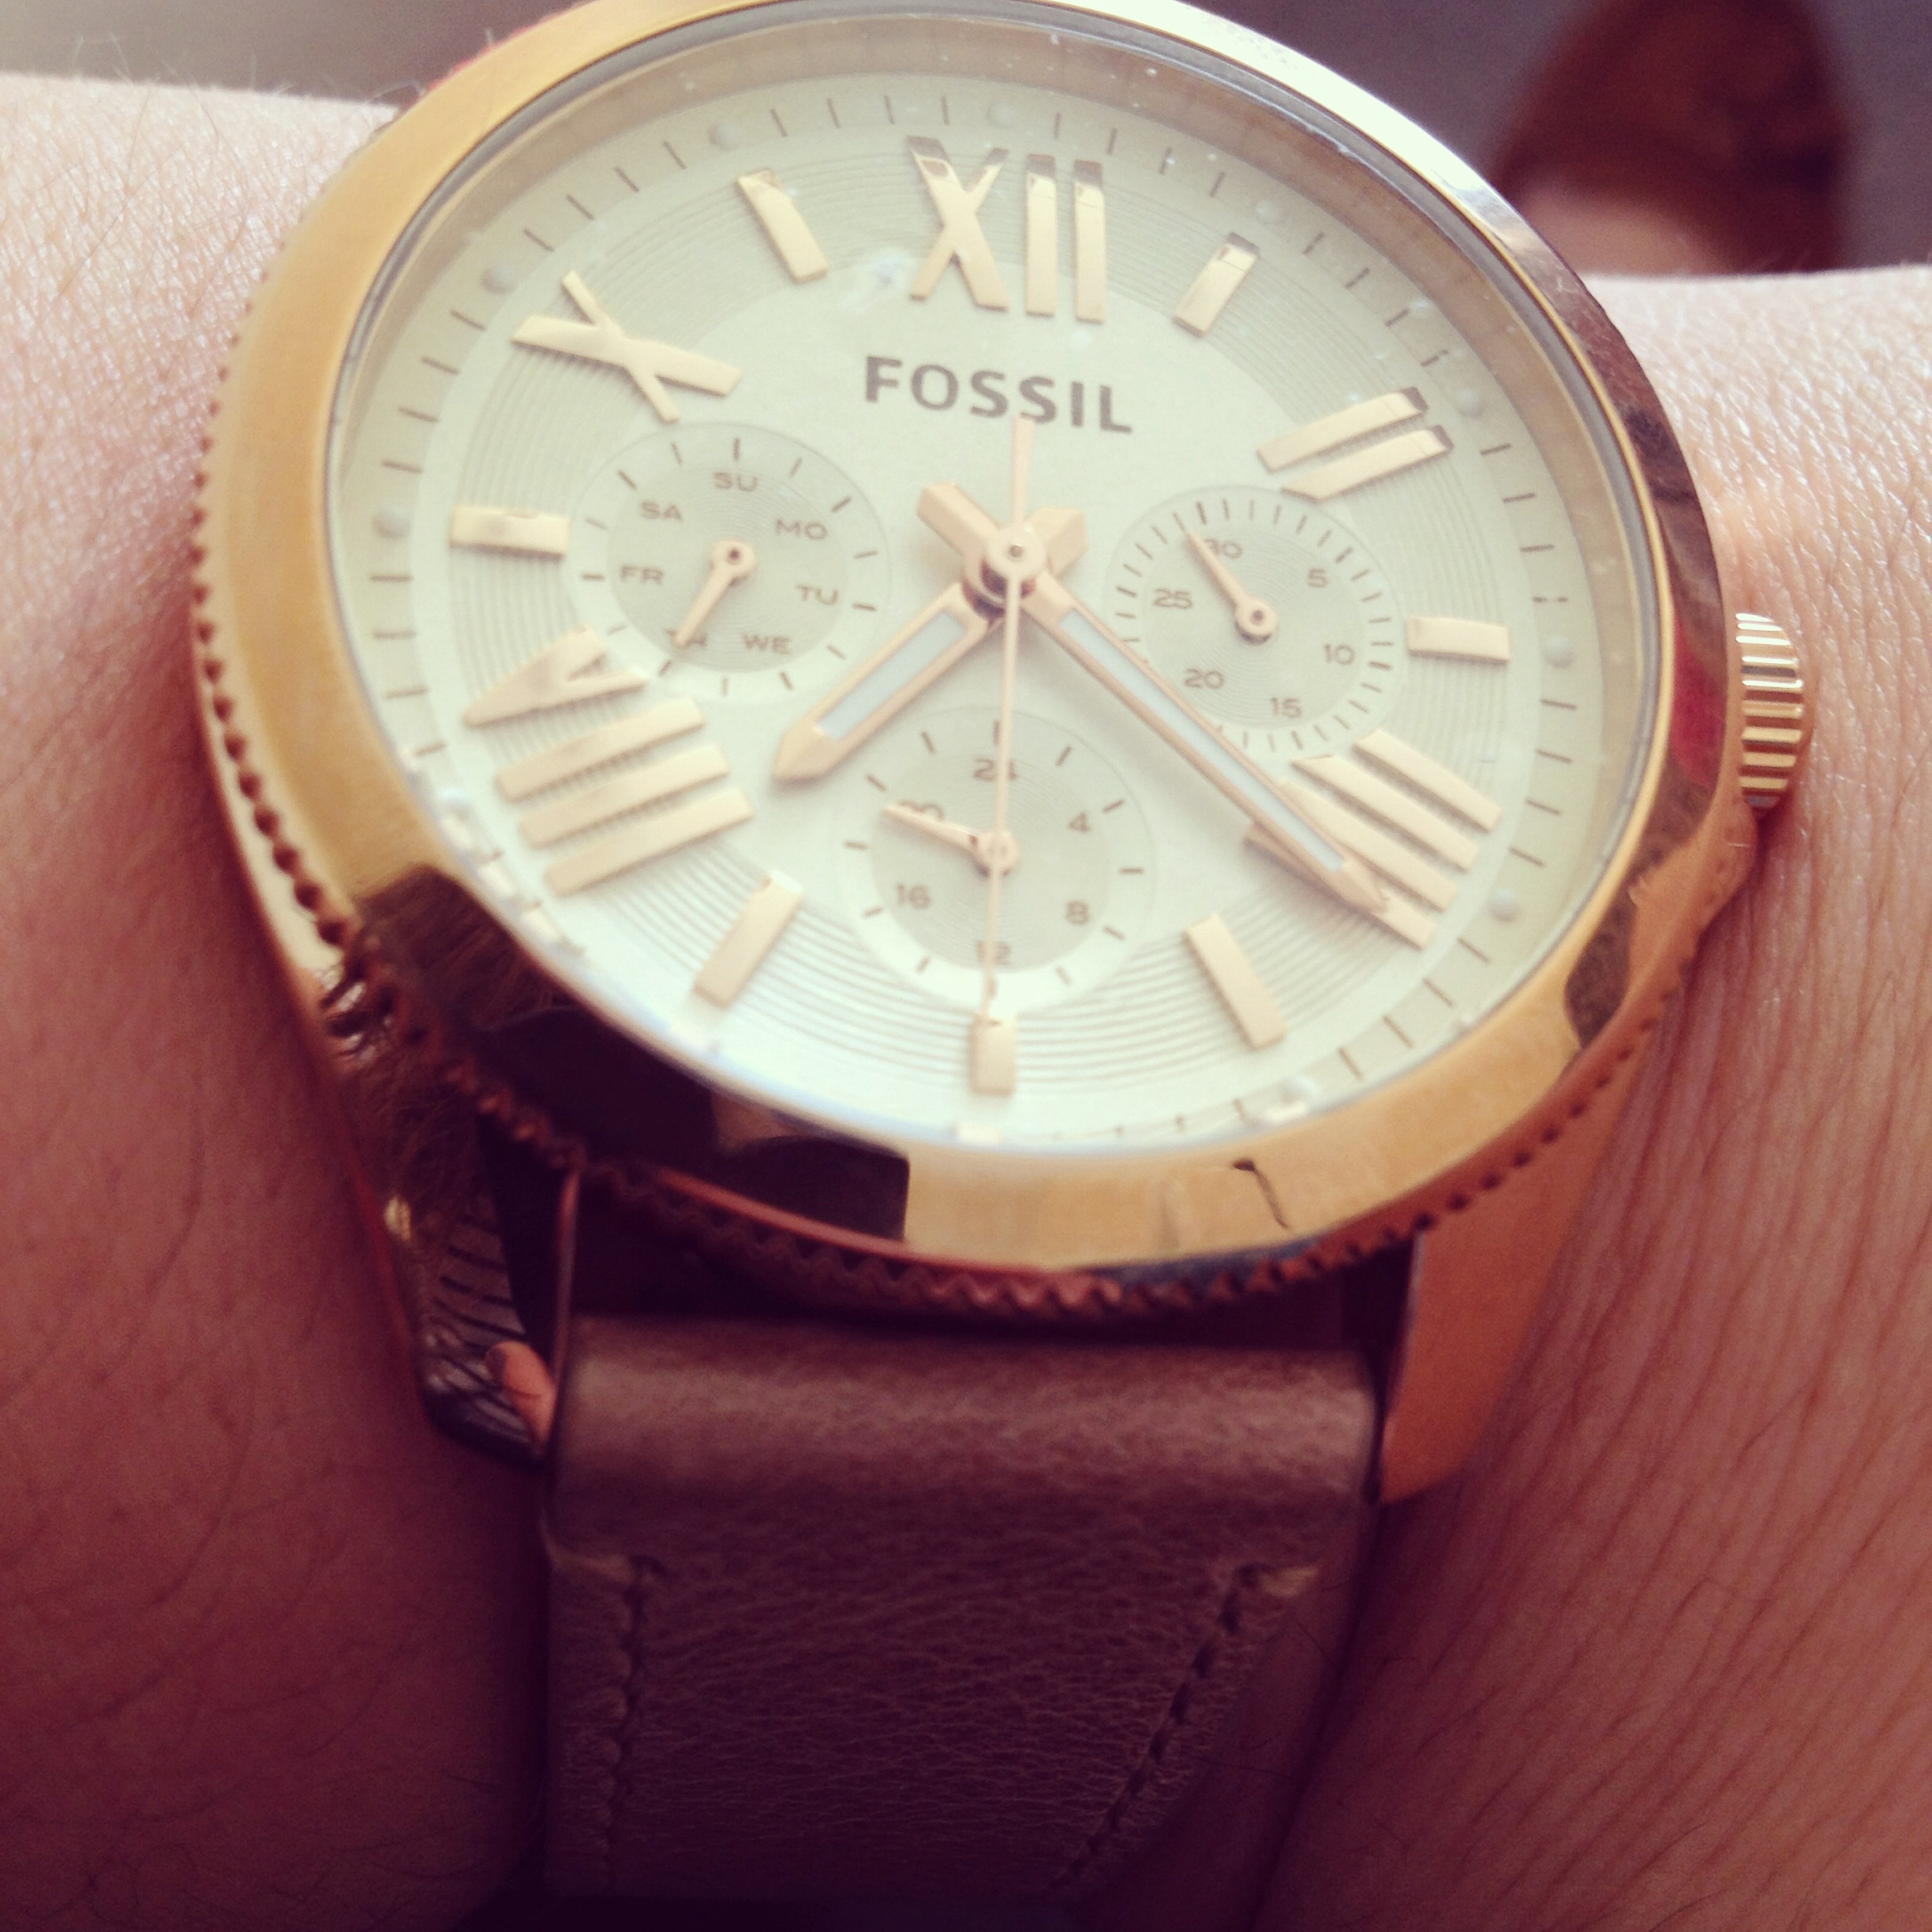clock: (179, 4, 1766, 1343)
